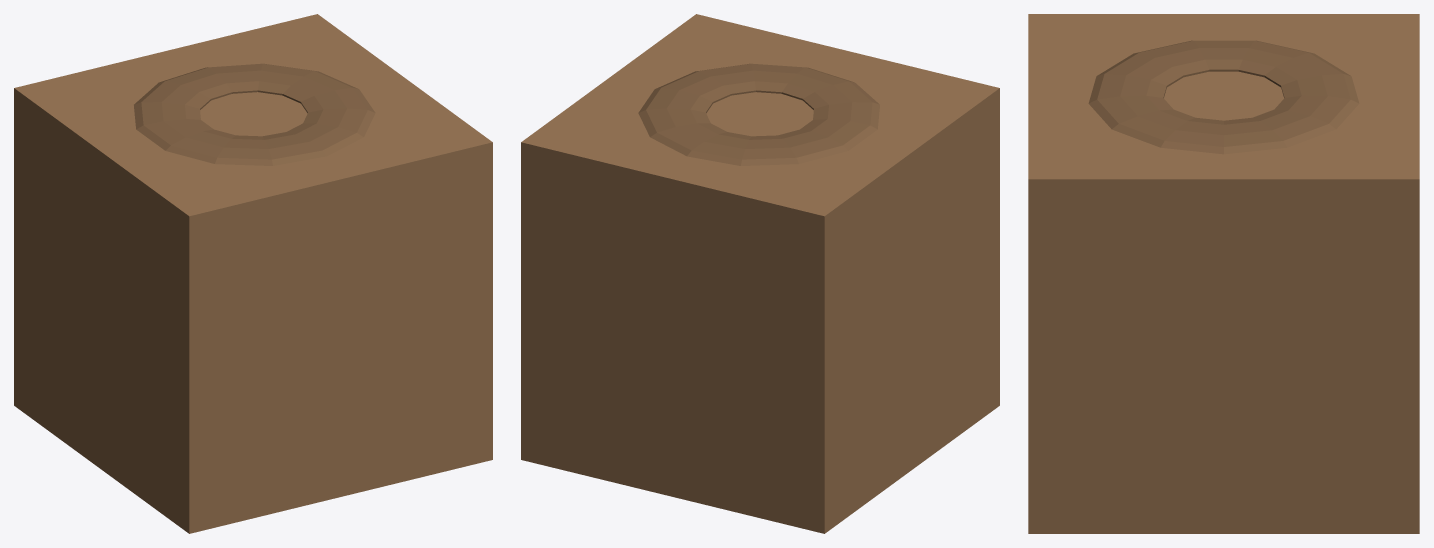
Rendered from LandPhase2.fbx.
3 views of the same model, side by side, from view 1: azimuth 30°, elevation 25°; view 2: azimuth 150°, elevation 25°; view 3: azimuth 270°, elevation 25° (orthographic). The views are drawn at different scales.
Visible parts, largest first — view 1: Cube, Torus; view 2: Cube, Torus; view 3: Cube, Torus.
Boxes of the visible parts, box(x1,y1,x2,y2) form: Cube: box(14, 14, 492, 533); Torus: box(134, 63, 375, 165); Cube: box(521, 14, 999, 533); Torus: box(638, 63, 879, 165); Cube: box(1028, 14, 1419, 533); Torus: box(1088, 40, 1359, 154).
Size of the model in its own units: 100 by 102 by 100.
